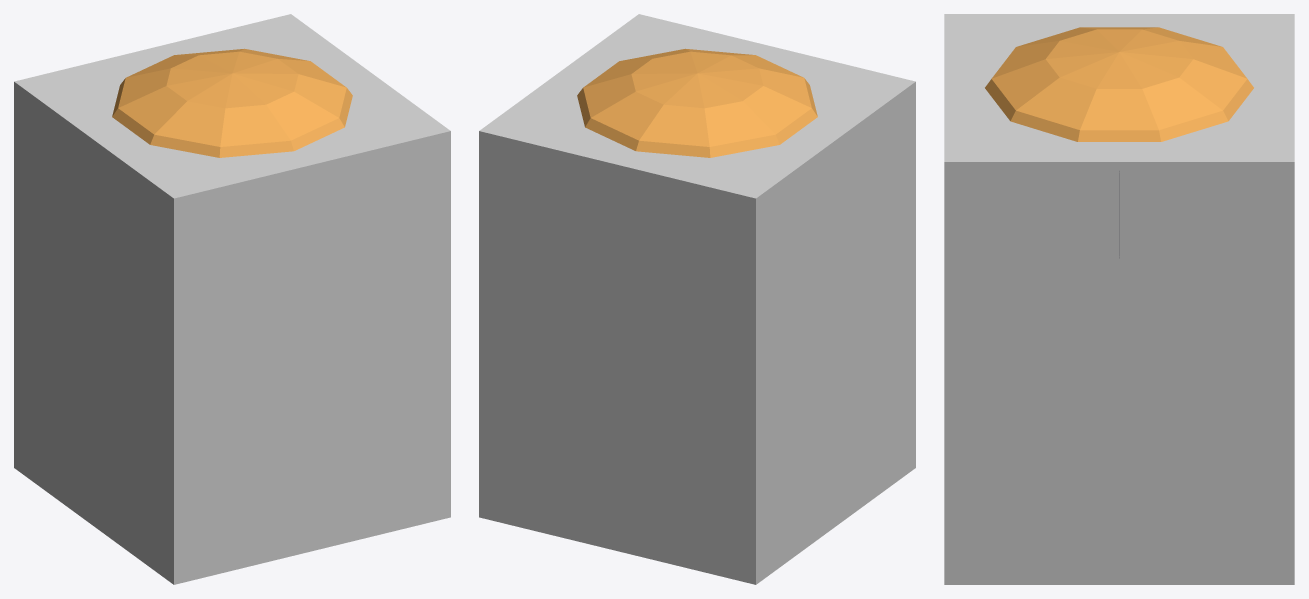
File: fortress_iron_brazier.glb
3 views of the same model, side by side, from view 1: azimuth 30°, elevation 25°; view 2: azimuth 150°, elevation 25°; view 3: azimuth 270°, elevation 25° (orthographic). The views are drawn at different scales.
Visible parts, largest first — view 1: FortressIronBrazier-col, FortressIronBrazier; view 2: FortressIronBrazier-col, FortressIronBrazier; view 3: FortressIronBrazier-col, FortressIronBrazier.
Part boxes in pixels (box(x1,y1,x2,y2)): FortressIronBrazier-col: box(14, 14, 450, 584); FortressIronBrazier: box(112, 48, 352, 157); FortressIronBrazier-col: box(479, 14, 915, 584); FortressIronBrazier: box(577, 48, 817, 157); FortressIronBrazier-col: box(944, 14, 1294, 584); FortressIronBrazier: box(985, 27, 1253, 258).
Size of the model in its own units: 0.9 by 1.3 by 0.9.
